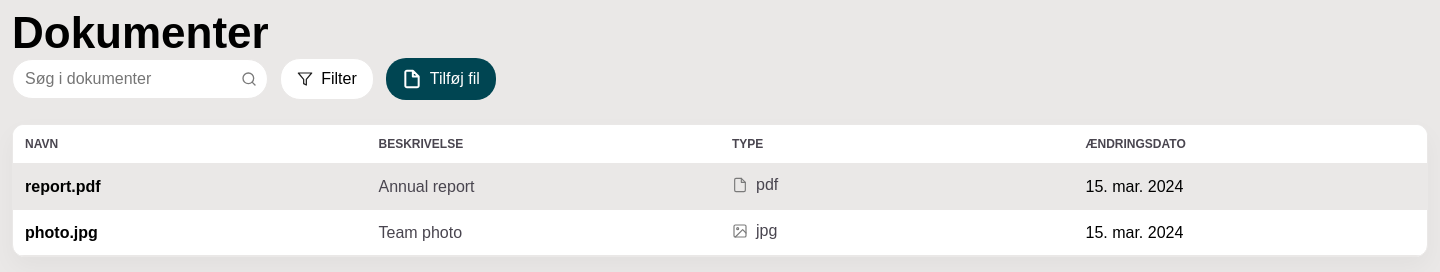
it: DocumentsView › filters documents by search query across name, description and type
The width and height of the screenshot is (1440, 272).
Type "photo" into the search field with placeholder "Søg i dokumenter".
click(140, 79); type("photo")  # box [12,59,268,99]
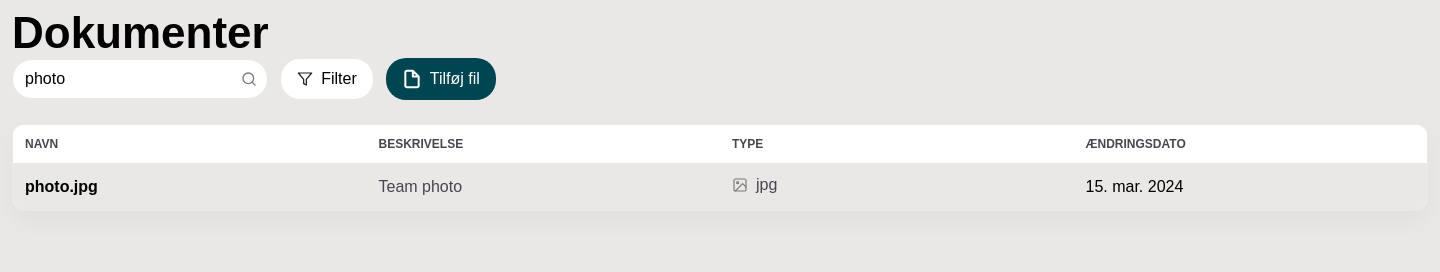
Expected: the text "photo.jpg" is shown, [25,178,98,194]
Result: the text "report.pdf" is gone
